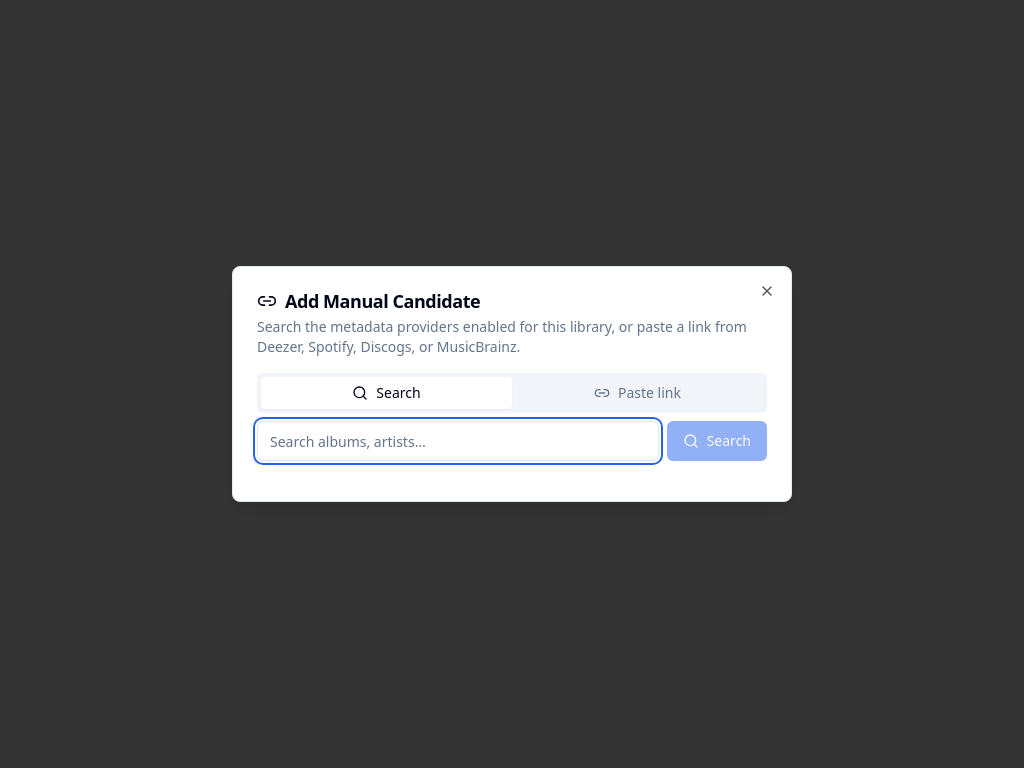
ManualCandidateDialog › Rendering › should show supported providers info on the link tab
Click the tab "Paste link" at (638, 393), box 512,377 -> 763,409
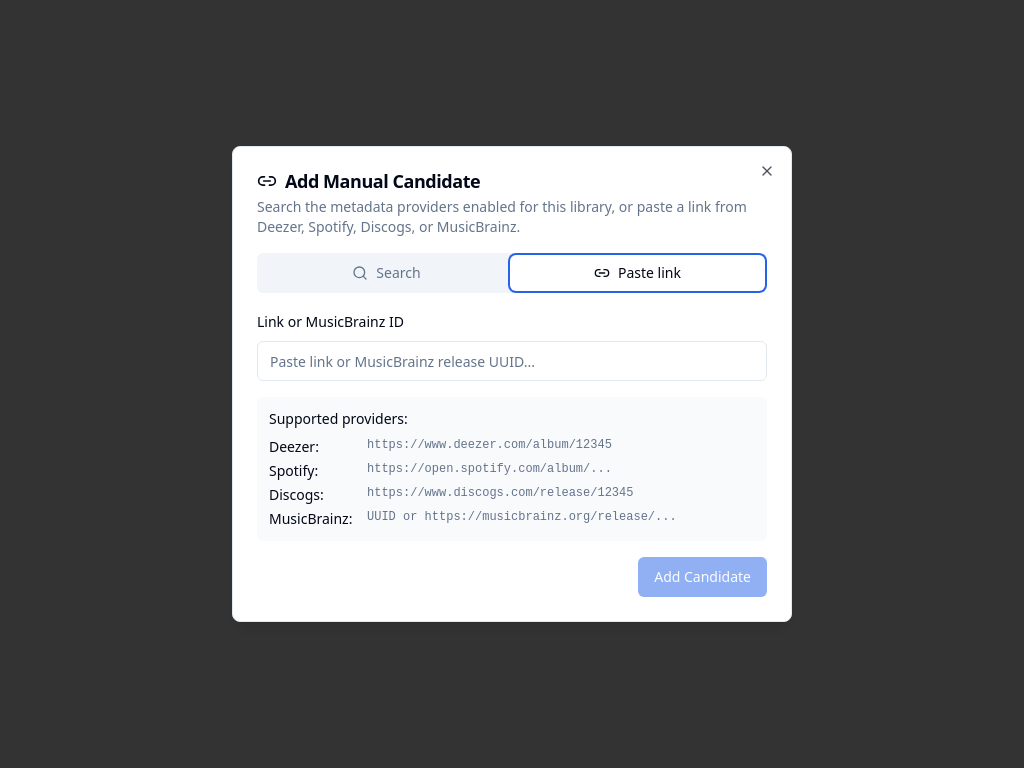
Check: the text "Supported providers:" is shown, box 269,409 -> 408,428
Check: the text "Deezer:" is shown, box 269,437 -> 319,456
Check: the text "Spotify:" is shown, box 269,461 -> 318,480
